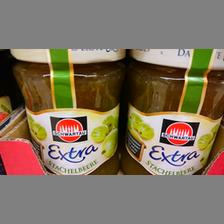Marmelade: (10, 48, 125, 174), (121, 47, 223, 175)
